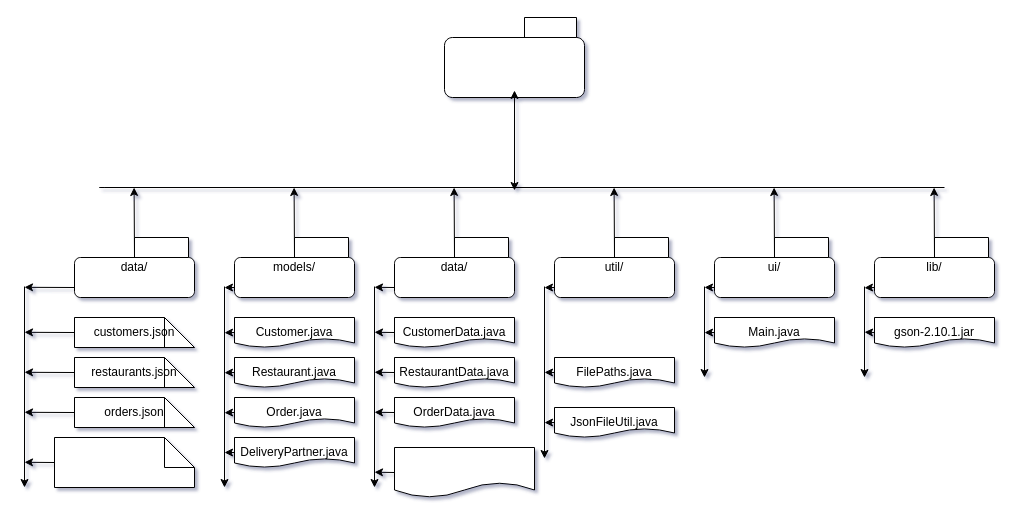
This 1018x521 diagram has some shape labels left out. The shapes that lost their labels are listed below. From the top down, each one's box as (x1, y1, x2, y2) in pixels, then its label:
(444, 16, 584, 98): SwiftFood
(54, 436, 194, 488): delivery_partners.json
(394, 446, 534, 498): DeliveryPartnerData.java
